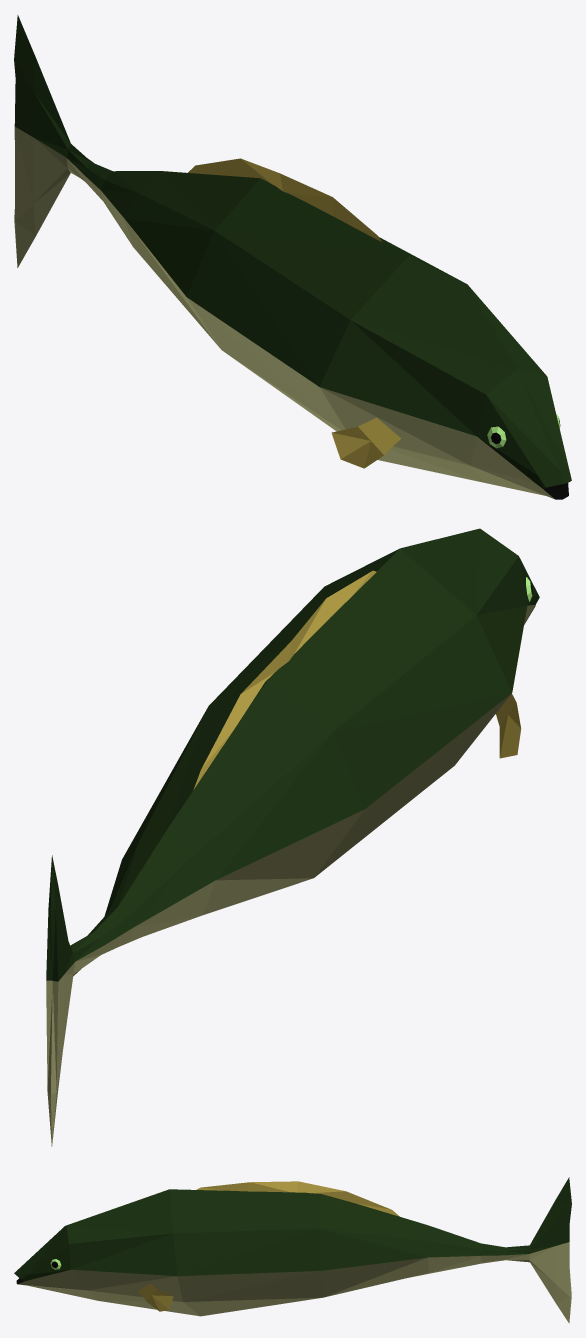
File: Minnnow_ioexperment_000007.obj
3 views of the same model, one above another, from view 1: azimuth 30°, elevation 25°; view 2: azimuth 150°, elevation 25°; view 3: azimuth 270°, elevation 25° (orthographic). The views are drawn at different scales.
Size of the model in its own units: 0.6817 by 0.9146 by 3.03.
